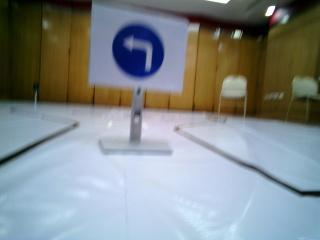left: (98, 17, 171, 90)
